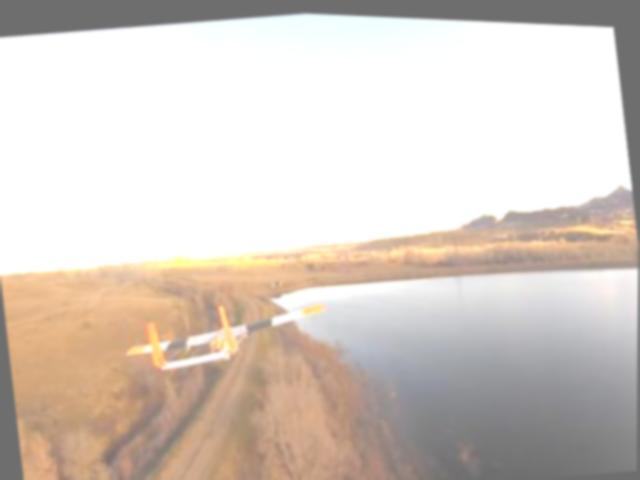uav: (118, 287, 332, 379)
